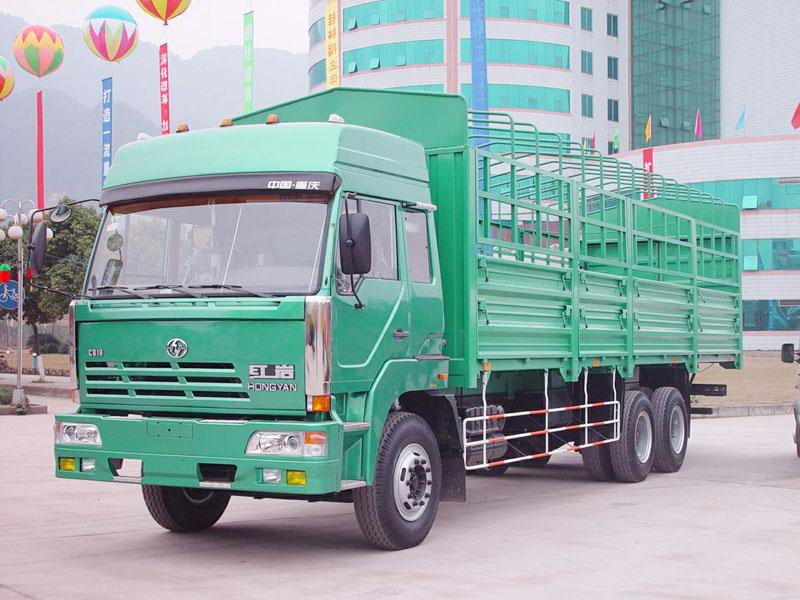truck: (46, 68, 747, 569)
